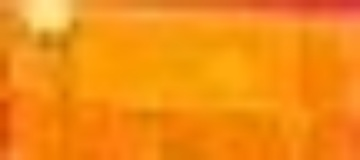Hotspot: (15, 1, 81, 35)
